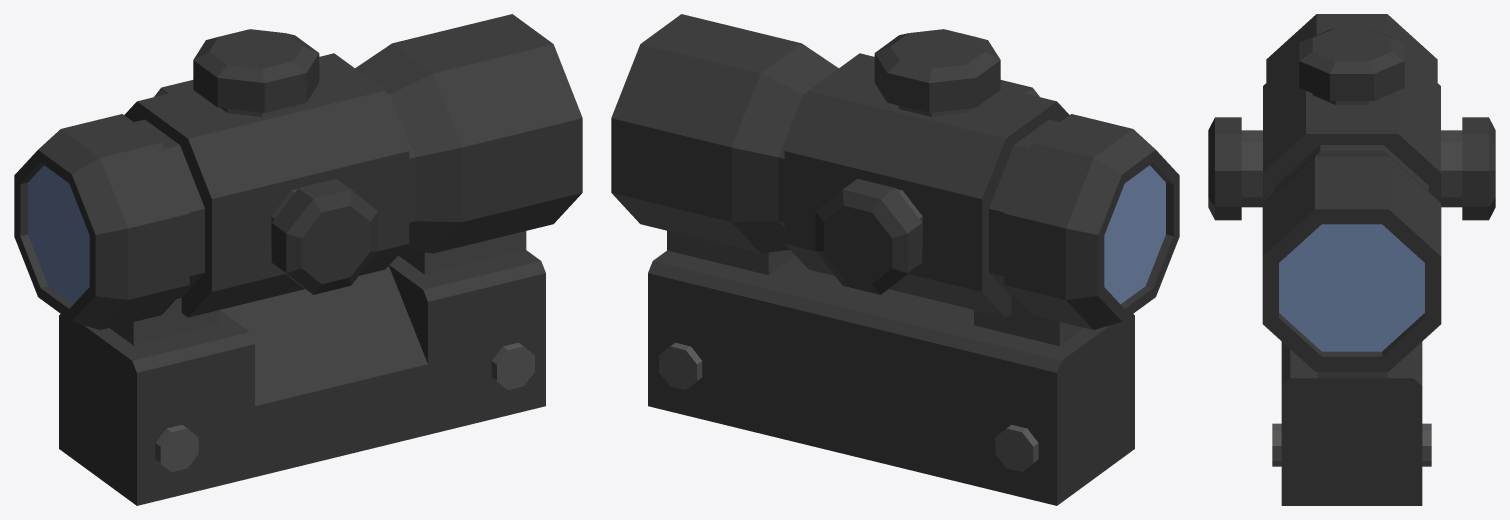
Rendered from Optic_05.fbx.
3 renders of one model, left to right at view 1: azimuth 30°, elevation 25°; view 2: azimuth 150°, elevation 25°; view 3: azimuth 270°, elevation 25°, orthographic. The views are drawn at different scales.
Visible parts, largest first — view 1: Optic_05; view 2: Optic_05; view 3: Optic_05.
Boxes of the visible parts, box(x1,y1,x2,y2) form: Optic_05: box(14, 14, 582, 505); Optic_05: box(611, 14, 1179, 505); Optic_05: box(1208, 14, 1495, 505).
Bounding box in the file's own units: 0.0927 × 0.0722 × 0.0536.
